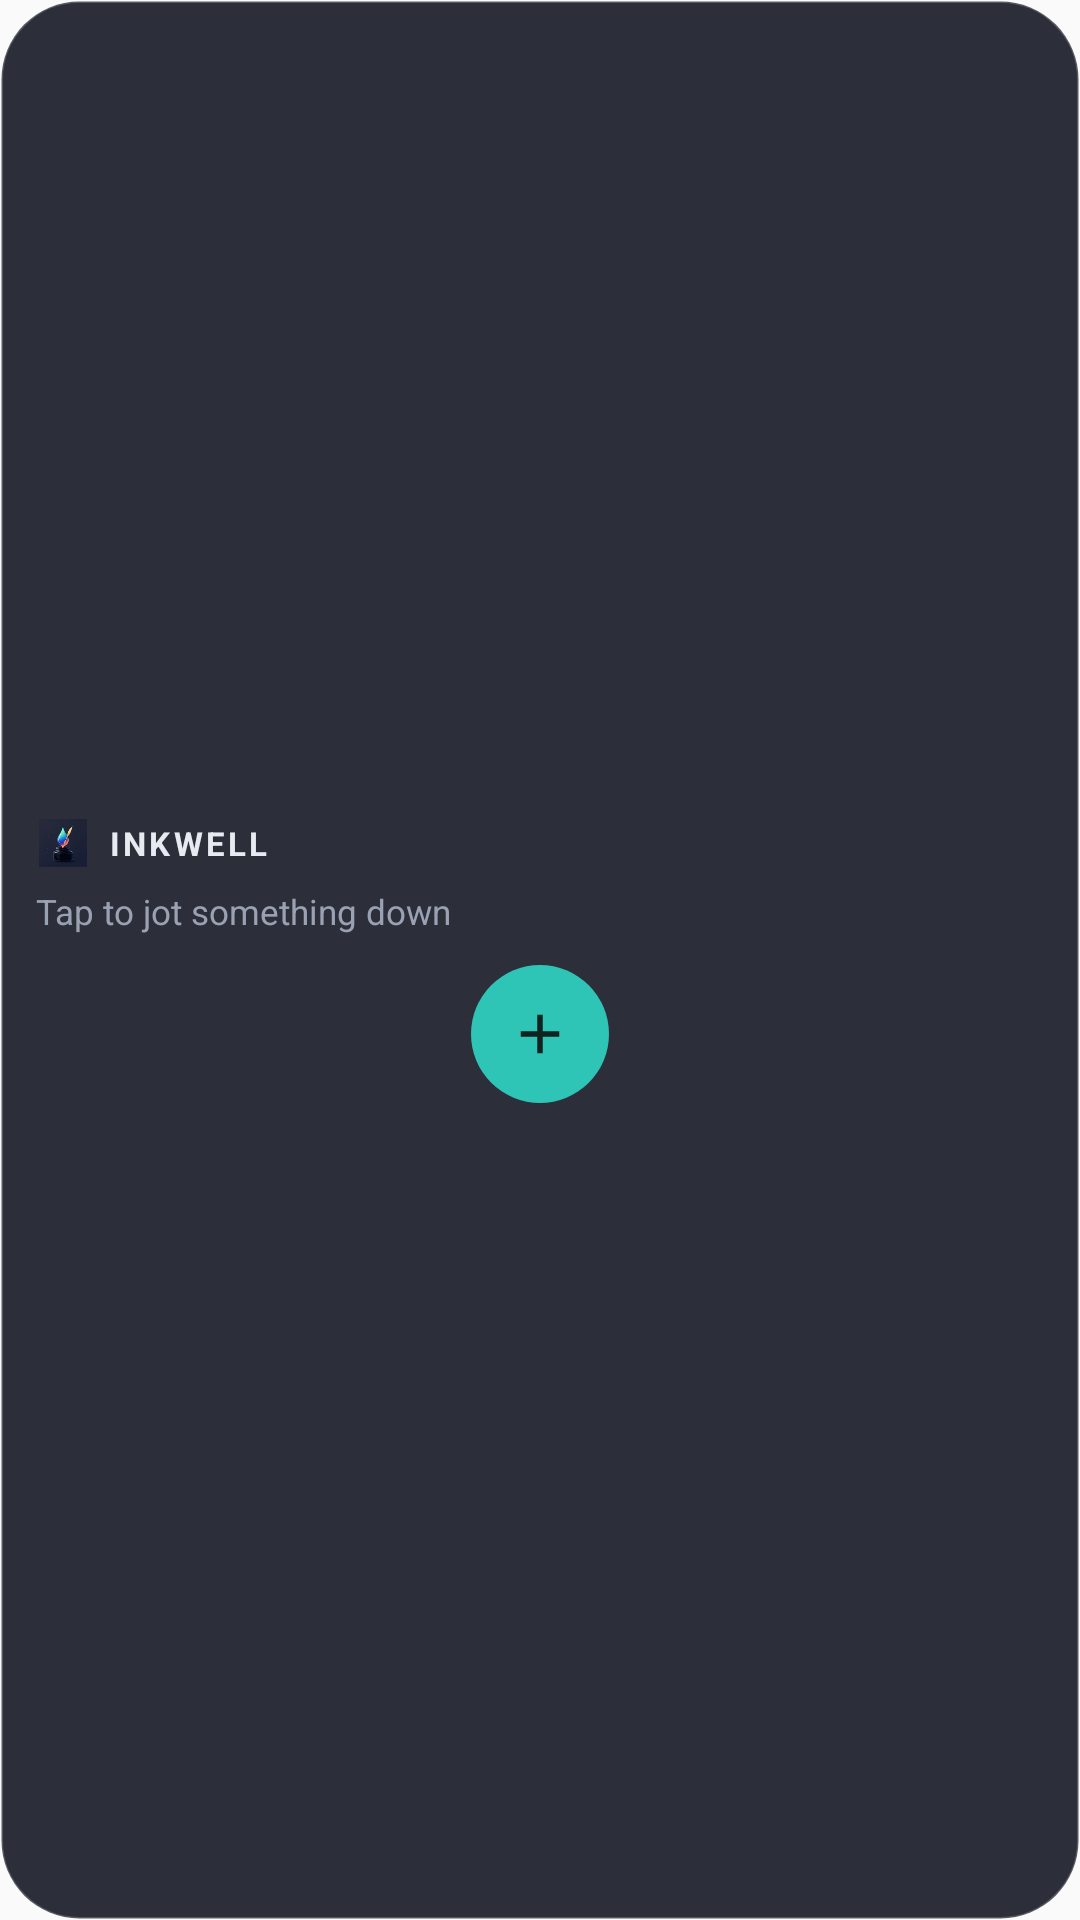

Icon bounding boxes for this 1080 × 1920 phone screenshot, format (x1, y1, x2, y2):
New note: (520, 1014, 560, 1054)
